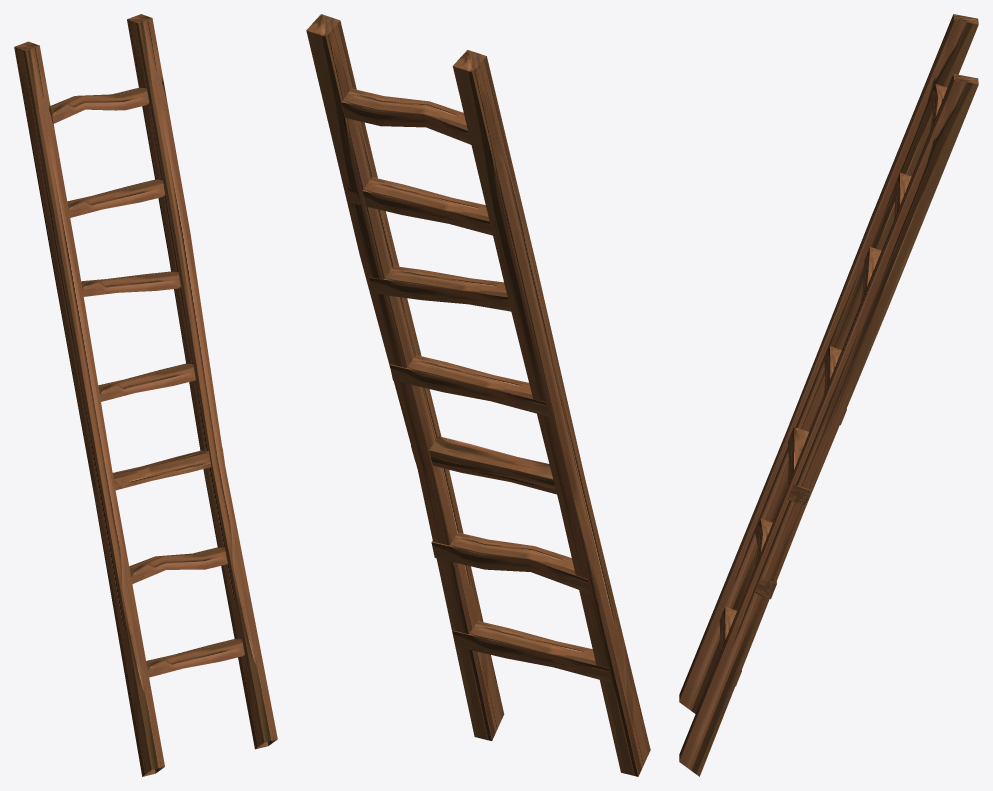
The model's file is Ladder.fbx.
3 views of the same model, side by side, from view 1: azimuth 30°, elevation 25°; view 2: azimuth 150°, elevation 25°; view 3: azimuth 270°, elevation 25° (orthographic). The views are drawn at different scales.
Parts seen in each view (by area): view 1: 1_Ladder; view 2: 1_Ladder; view 3: 1_Ladder.
Part boxes in pixels (bbox=[...]): 1_Ladder: bbox=[14, 14, 277, 776]; 1_Ladder: bbox=[306, 14, 650, 776]; 1_Ladder: bbox=[679, 14, 978, 776].
Size of the model in its own units: 36.9 by 178 by 69.2.
